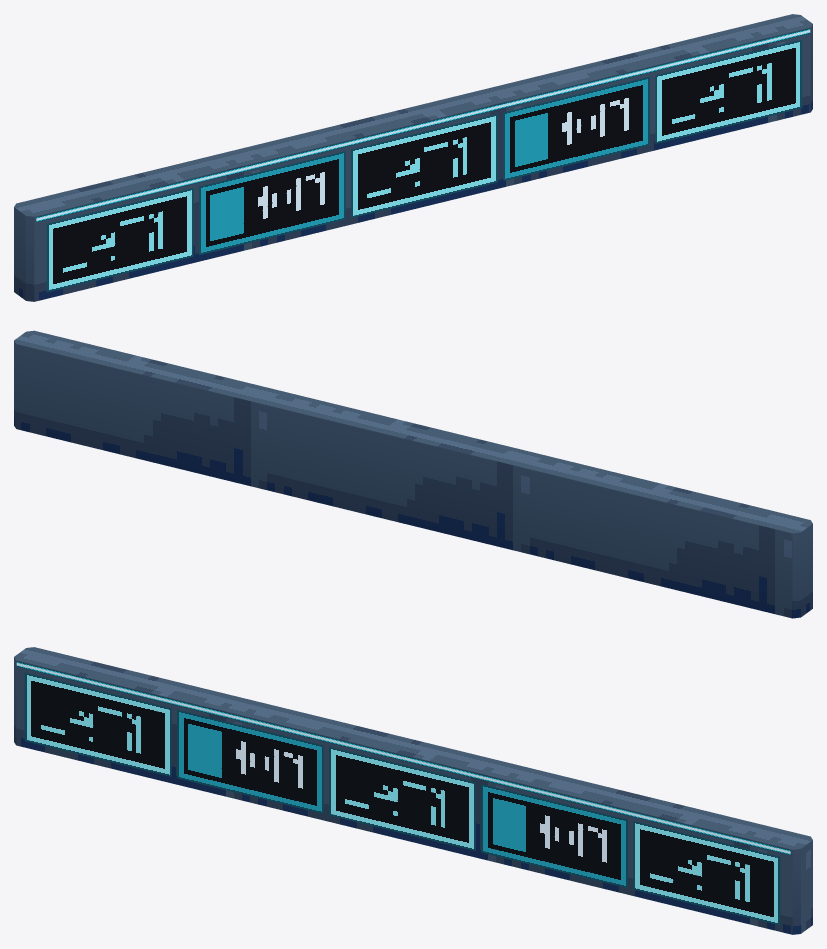
File: cysign.ticker.glb
3 views of the same model, one above another, from view 1: azimuth 30°, elevation 25°; view 2: azimuth 150°, elevation 25°; view 3: azimuth 330°, elevation 25° (orthographic).
Parts seen in each view (by area): view 1: kit_card_band, kit_housing; view 2: kit_housing; view 3: kit_card_band, kit_housing.
Boxes of the visible parts, box(x1,y1,x2,y2) form: kit_card_band: box(36, 28, 810, 292); kit_housing: box(14, 14, 812, 301); kit_housing: box(14, 330, 812, 618); kit_card_band: box(16, 661, 790, 925); kit_housing: box(14, 647, 812, 934).
Size of the model in its own units: 6 by 0.62 by 0.265.
Materials: 3 (3 with a texture image).
